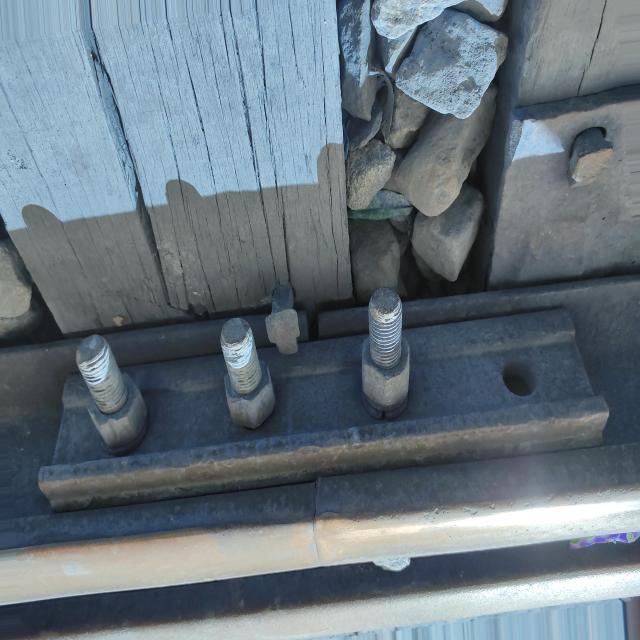Defective Joint: (39, 288, 608, 511)
